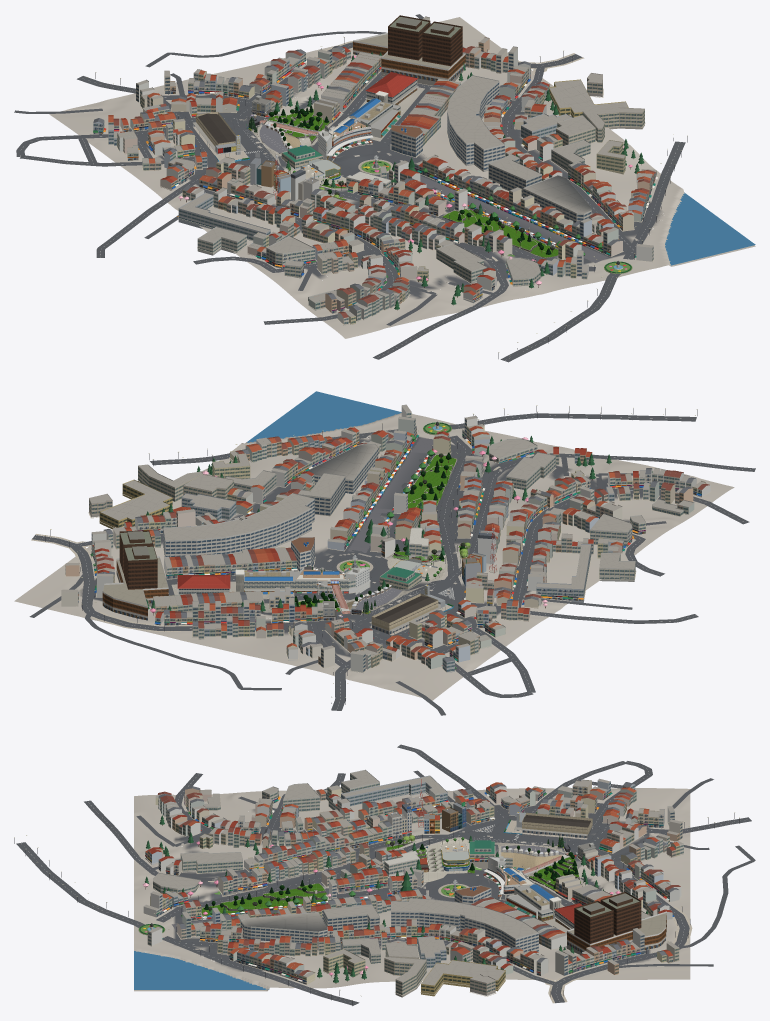
File: market.glb
3 views of the same model, one above another, from view 1: azimuth 30°, elevation 25°; view 2: azimuth 150°, elevation 25°; view 3: azimuth 270°, elevation 25° (orthographic). The views are drawn at different scales.
Parts seen in each view (by area): view 1: buildings; view 2: buildings; view 3: buildings.
Part boxes in pixels (x1,y1,x2,y2): buildings: (14, 14, 755, 362); buildings: (14, 391, 755, 715); buildings: (14, 744, 755, 1005).
Size of the model in its own units: 554 by 62.23 by 667.
1 material, 1 textured.
